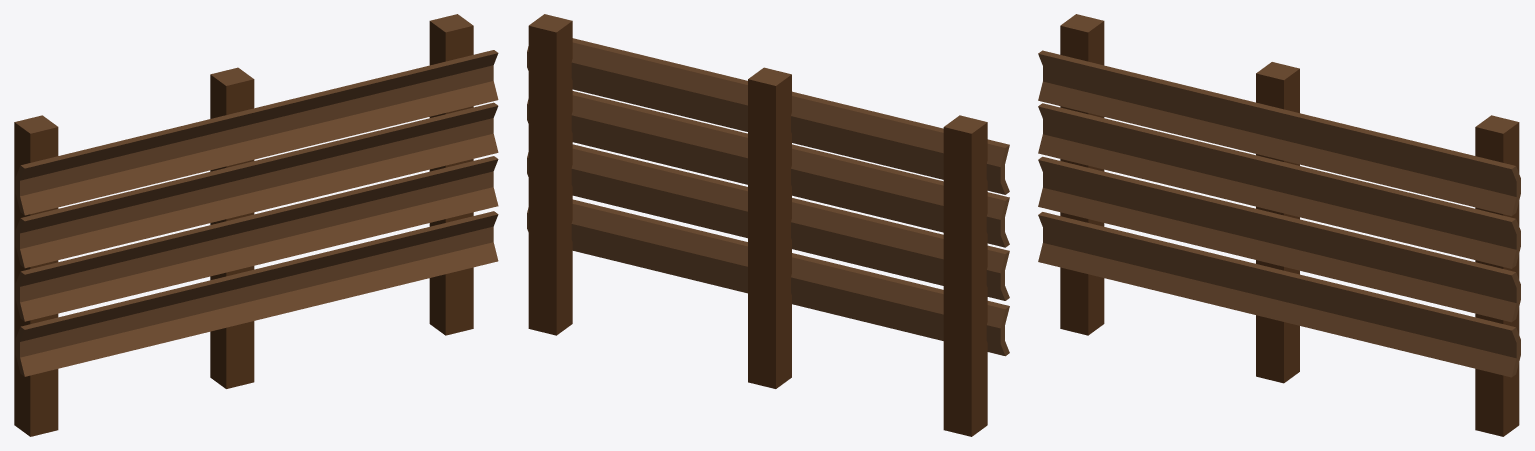
File: fence by Vijay Rawat - ap_4JzGZmXY.glb
3 views of the same model, side by side, from view 1: azimuth 30°, elevation 25°; view 2: azimuth 150°, elevation 25°; view 3: azimuth 330°, elevation 25° (orthographic).
Visible parts, largest first — view 1: Cube; view 2: Cube; view 3: Cube.
Part boxes in pixels (x1,y1,x2,y2): Cube: (14,14,498,436); Cube: (527,14,1009,436); Cube: (1038,14,1520,436).
Size of what is drawn, in the model's own units: 4.5 by 2.75 by 0.3992.
